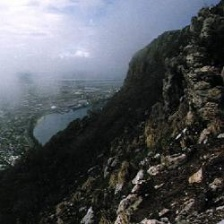neutral: (5, 2, 222, 223)
